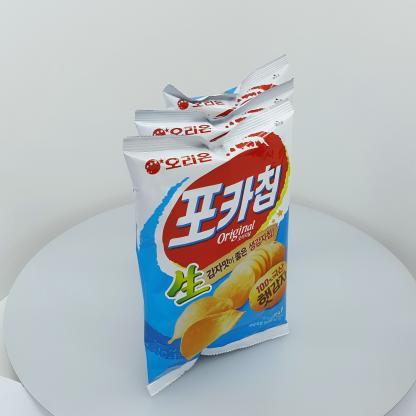Plastic Packaging: (118, 107, 302, 391)
